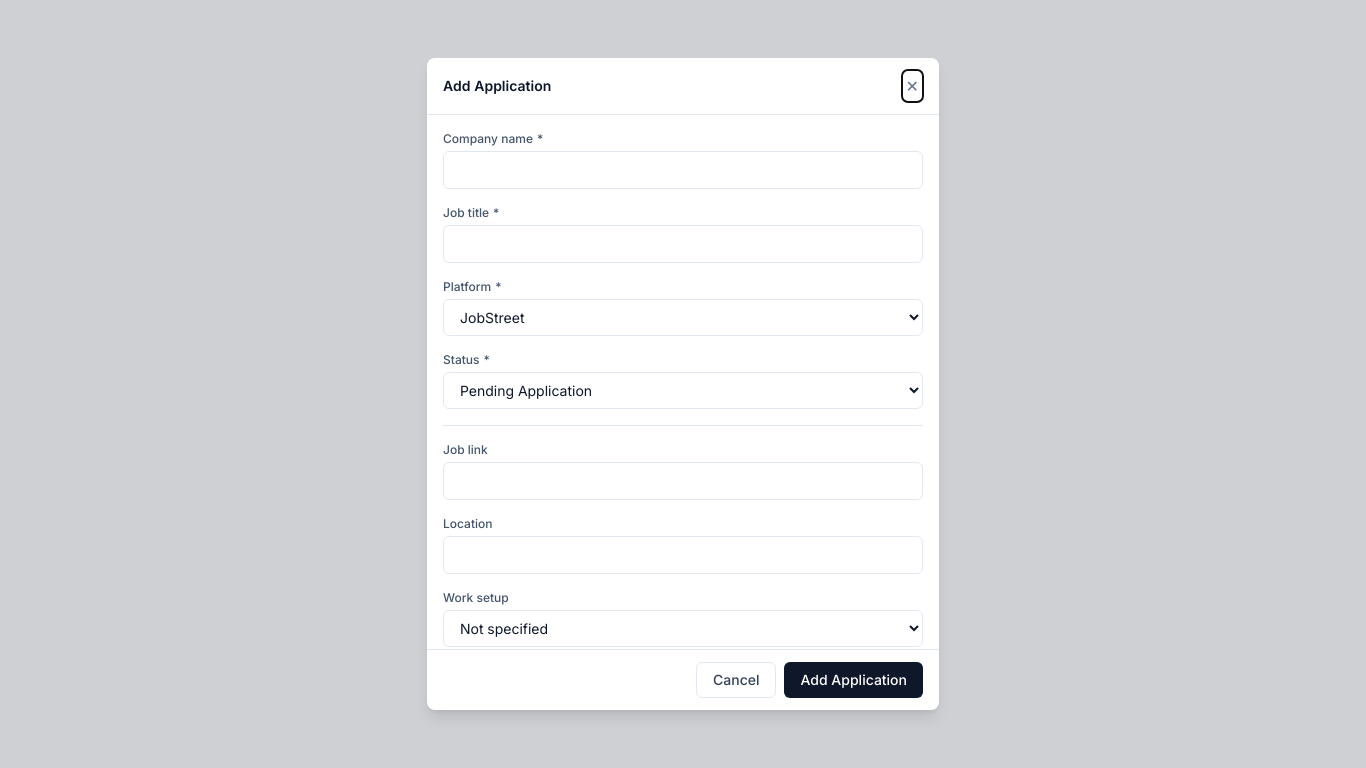
Scenario: ApplicationFormModal › surfaces validation errors and blocks submit when required fields are blank
Click the button "Add Application": (854, 680) [784,662,923,698]
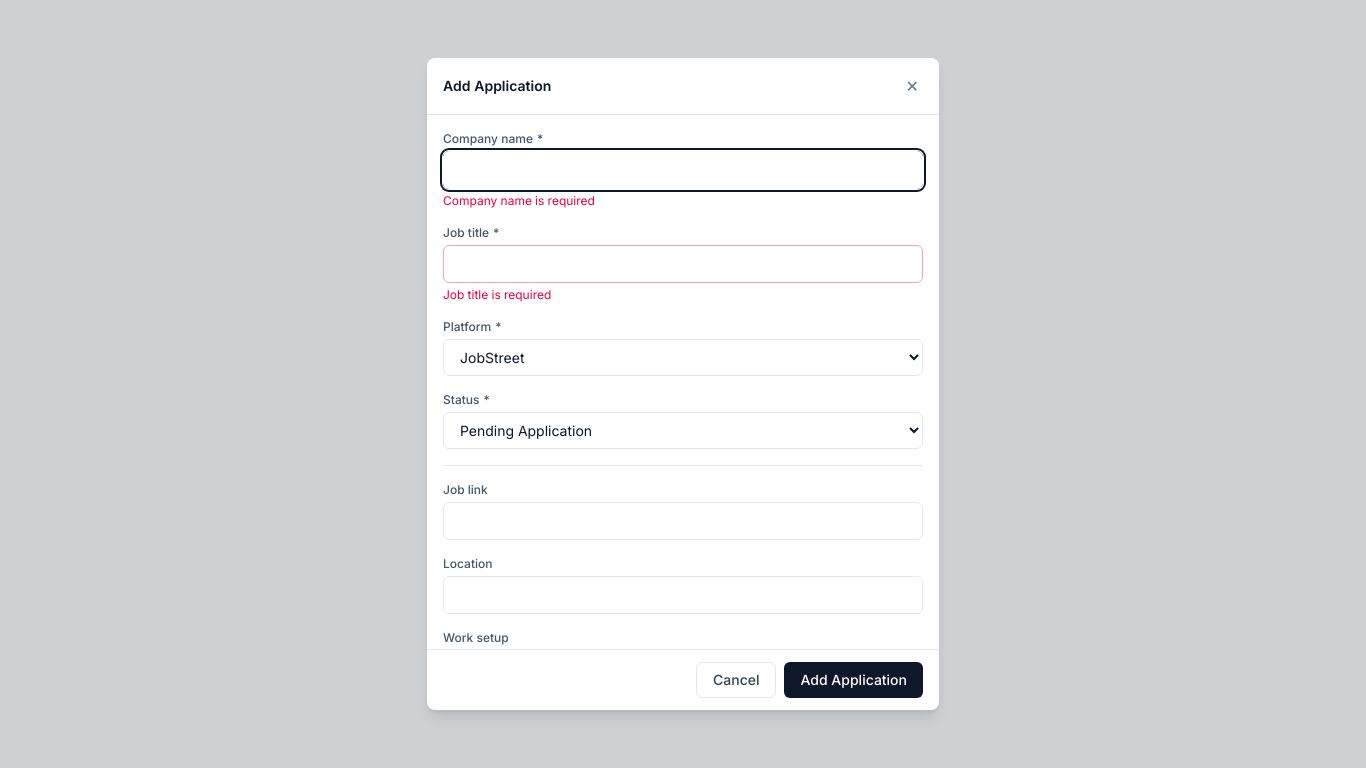
Expected: the text "Company name is required" is shown, [443,193,595,208]
Expected: the text "Job title is required" is shown, [443,287,551,302]
